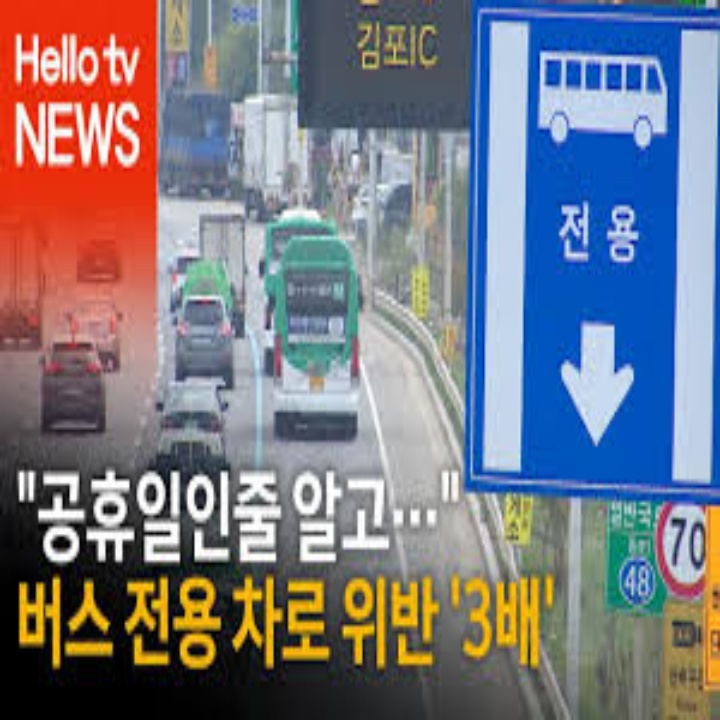bus: (534, 41, 673, 158)
